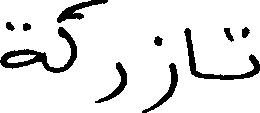X: (59, 0, 105, 107), (0, 17, 41, 73), (225, 22, 259, 84), (107, 0, 125, 105), (155, 31, 176, 112), (186, 23, 195, 81)
